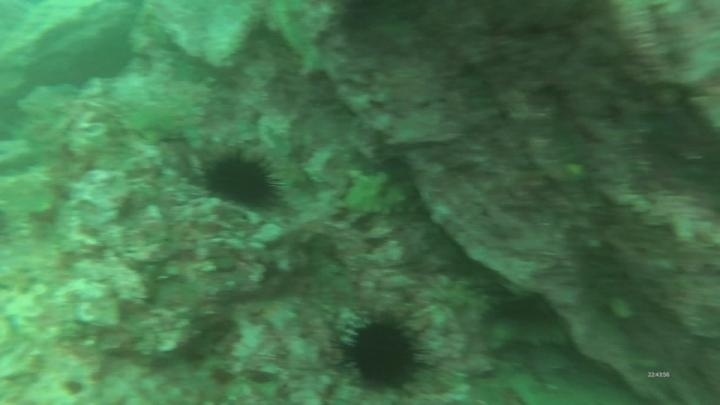echinus: (337, 309, 431, 396), (199, 145, 285, 214)
holothurian: (114, 97, 214, 148), (335, 168, 419, 225), (480, 311, 573, 356)
starfish: (249, 294, 303, 335)
